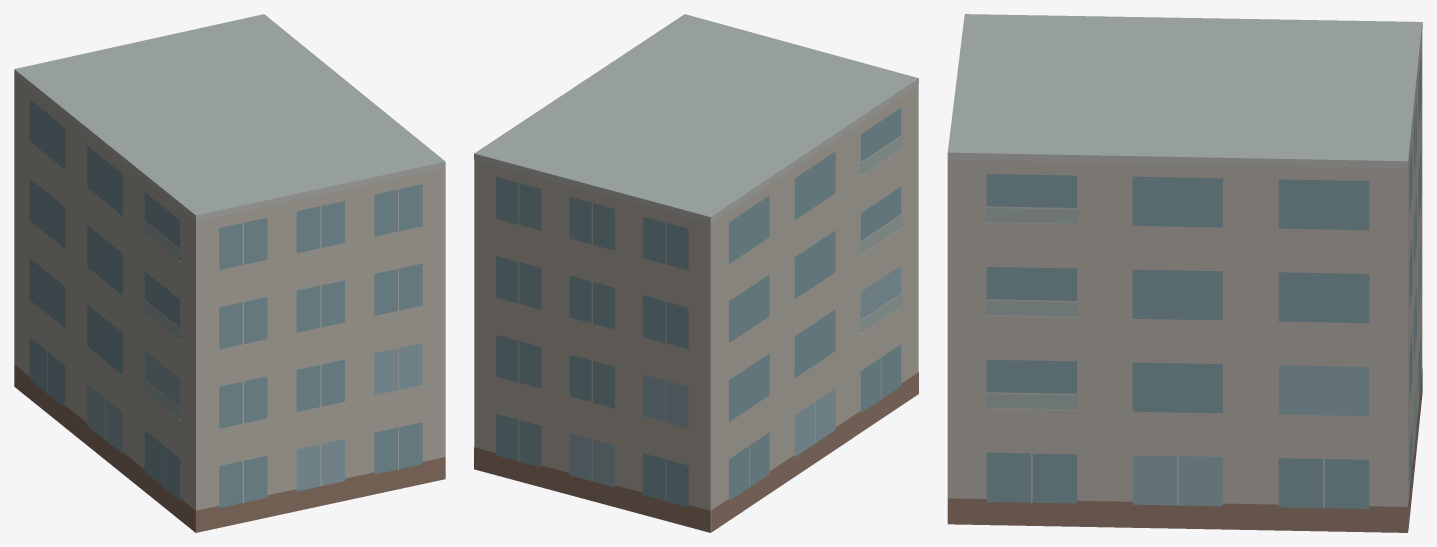
Rendered from survey-upis-32707617.glb.
3 renders of one model, left to right at view 1: azimuth 30°, elevation 25°; view 2: azimuth 150°, elevation 25°; view 3: azimuth 270°, elevation 25°, orthographic. The views are drawn at different scales.
Parts seen in each view (by area): view 1: survey-upis-32707617.tmp; view 2: survey-upis-32707617.tmp; view 3: survey-upis-32707617.tmp.
Part boxes in pixels (x1=…): survey-upis-32707617.tmp: x1=14, y1=14, x2=445, y2=532; survey-upis-32707617.tmp: x1=474, y1=14, x2=918, y2=532; survey-upis-32707617.tmp: x1=947, y1=14, x2=1422, y2=532.
Size of the model in its own units: 10.97 by 12.9 by 14.94.
